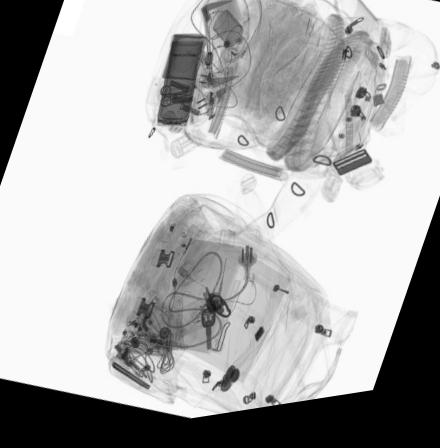Scissors: (157, 90, 188, 112)
